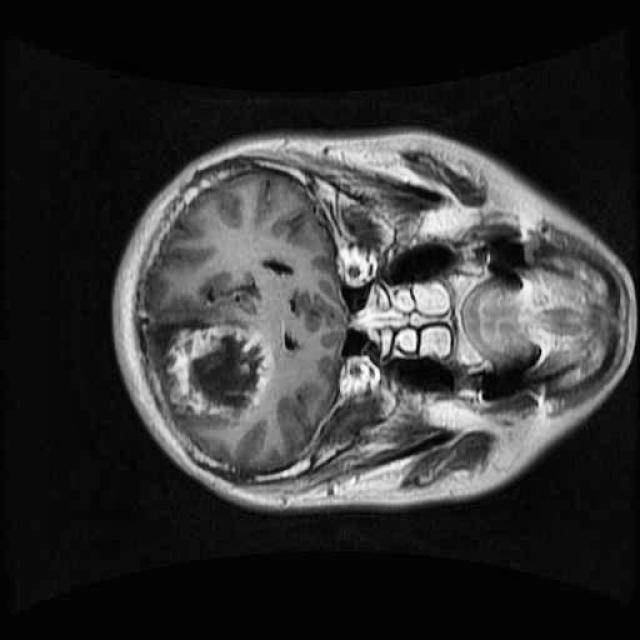Non-Tumor: (155, 315, 285, 429)
